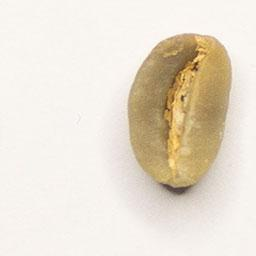premium: (124, 29, 237, 191)
